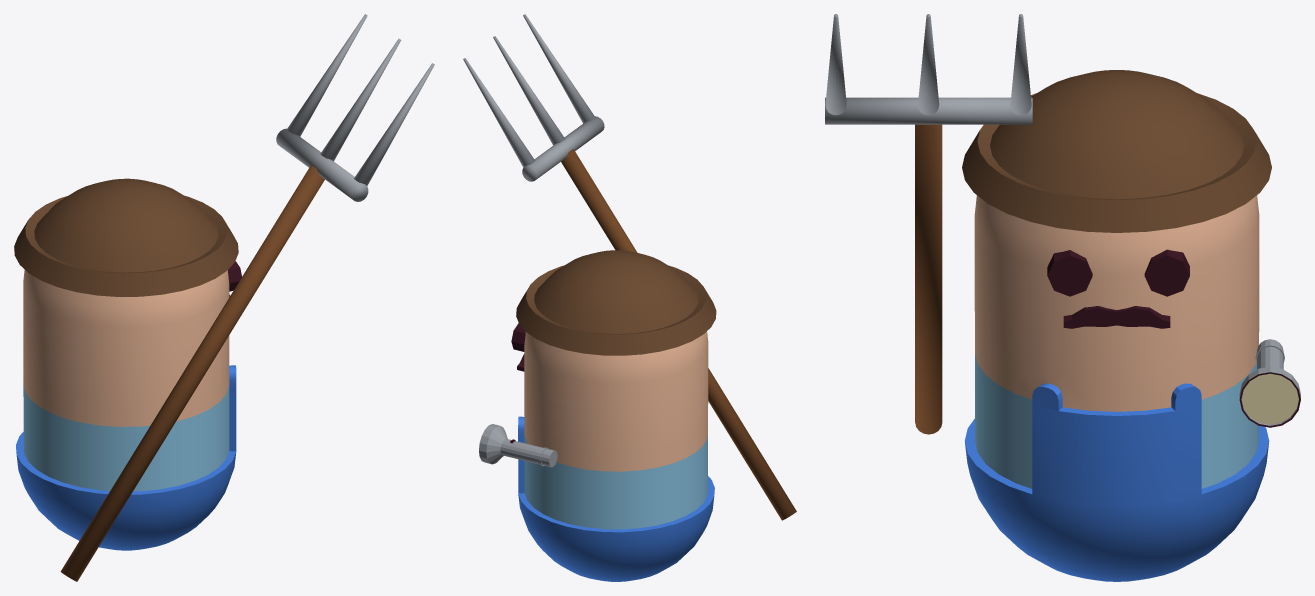
Rendered from Farmer.fbx.
3 views of the same model, side by side, from view 1: azimuth 30°, elevation 25°; view 2: azimuth 150°, elevation 25°; view 3: azimuth 270°, elevation 25° (orthographic). The views are drawn at different scales.
Visible parts, largest first — view 1: Sphere.001, Cylinder.006; view 2: Sphere.001, Cylinder.006, Cylinder.007; view 3: Sphere.001, Cylinder.006, Cylinder.007, Cube.003, Cylinder.005, Cylinder.003.
Part boxes in pixels (box(x1,y1,x2,y2)): Sphere.001: box(14, 178, 238, 550); Cylinder.006: box(60, 14, 434, 581); Sphere.001: box(516, 250, 716, 581); Cylinder.006: box(463, 14, 796, 520); Cylinder.007: box(479, 424, 557, 467); Sphere.001: box(962, 70, 1271, 581); Cylinder.006: box(825, 14, 1032, 434); Cylinder.007: box(1239, 339, 1300, 427); Cube.003: box(1063, 306, 1170, 328); Cylinder.005: box(1144, 249, 1189, 296); Cylinder.003: box(1047, 250, 1092, 296).
Size of the model in its own units: 202 by 286 by 179.
